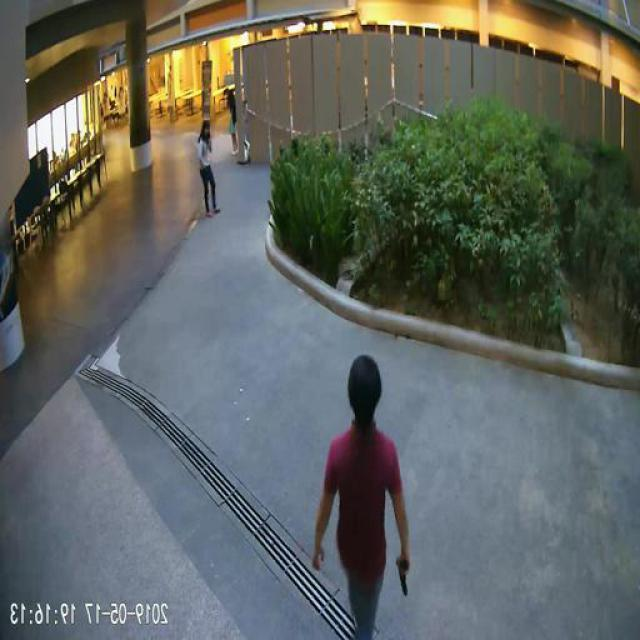Gun: (398, 554, 412, 592)
